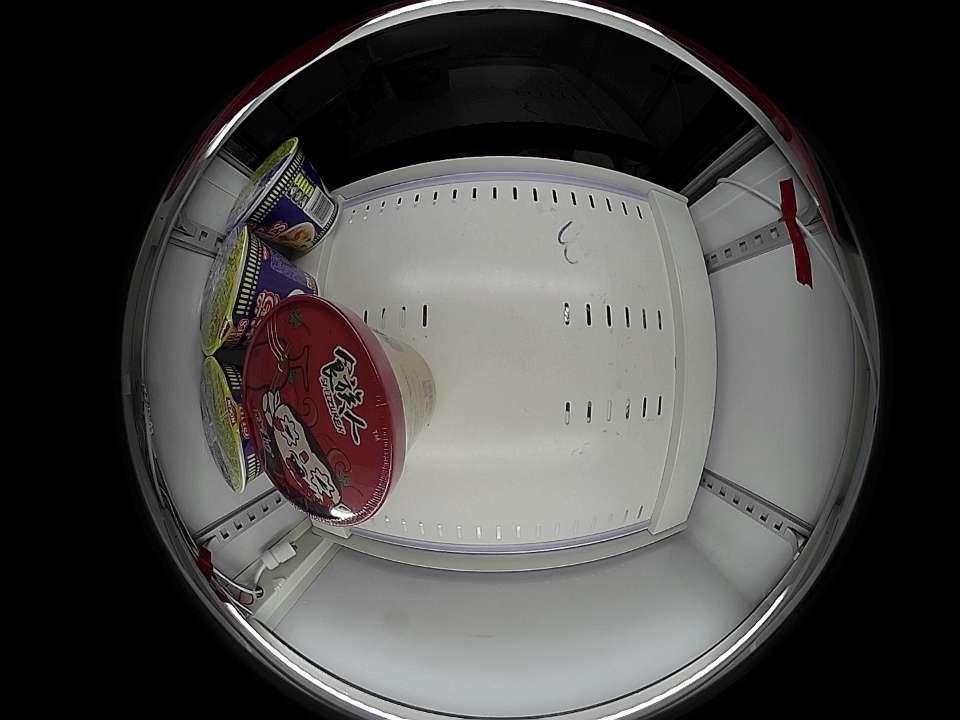heweidao: (198, 225, 273, 358), (200, 355, 262, 494), (226, 137, 309, 234)
suanlafen: (242, 292, 409, 526)
